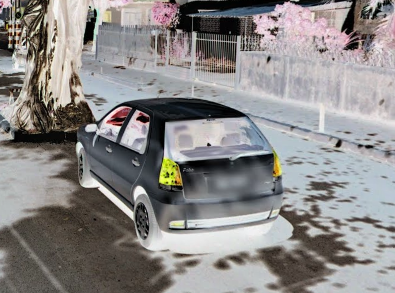car: (74, 81, 293, 264)
